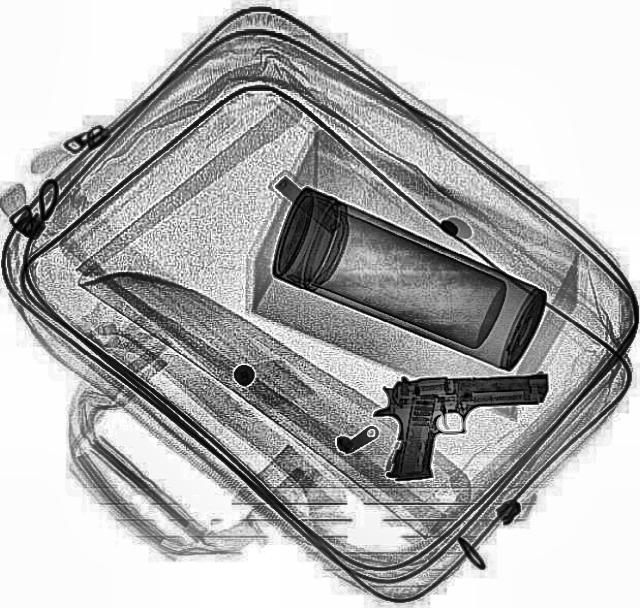Gun: (370, 370, 552, 482)
